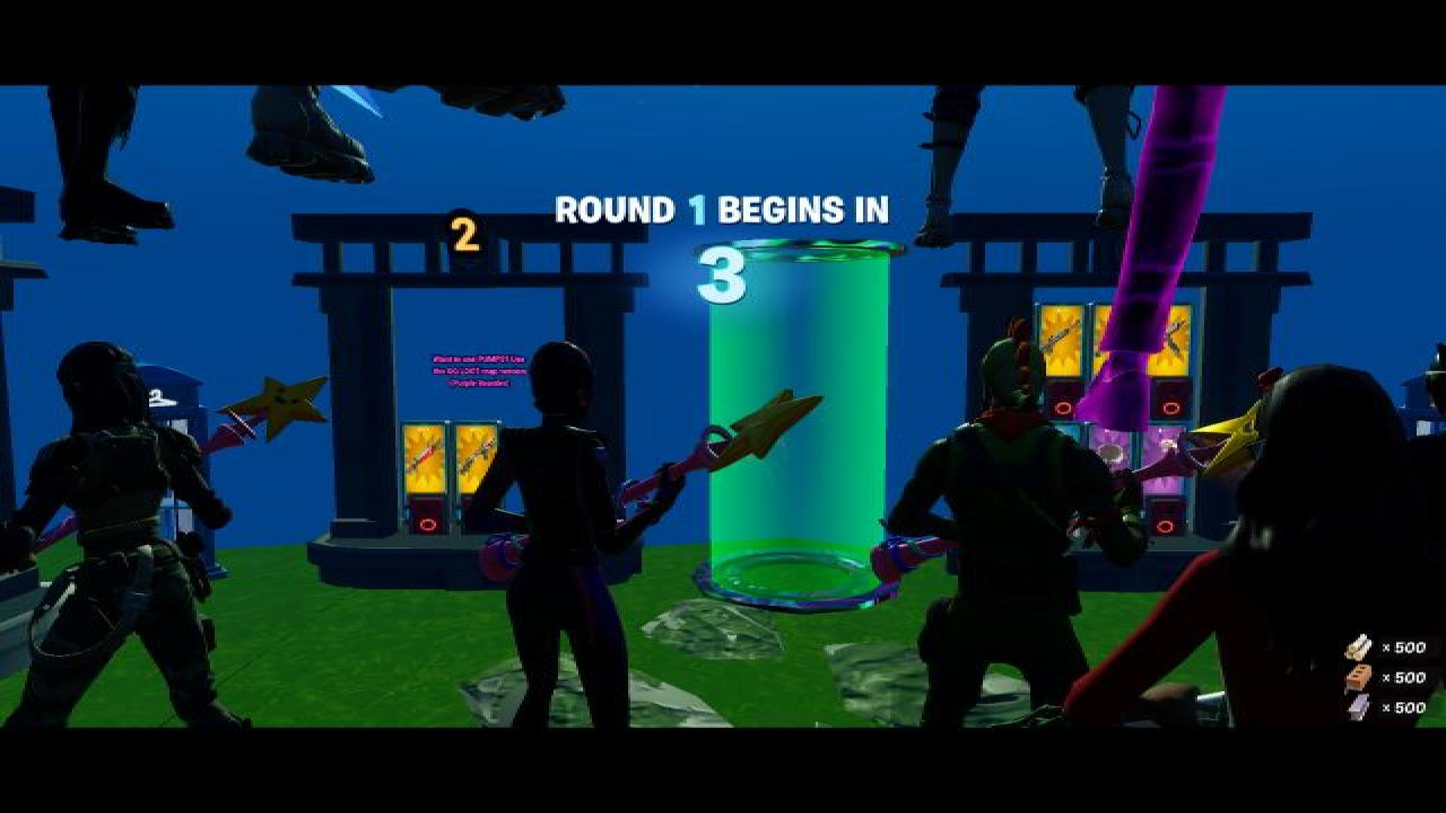player: (813, 343, 1114, 737), (1135, 373, 1443, 750), (21, 350, 281, 733), (846, 87, 1203, 246), (27, 85, 194, 279), (238, 83, 412, 219)
